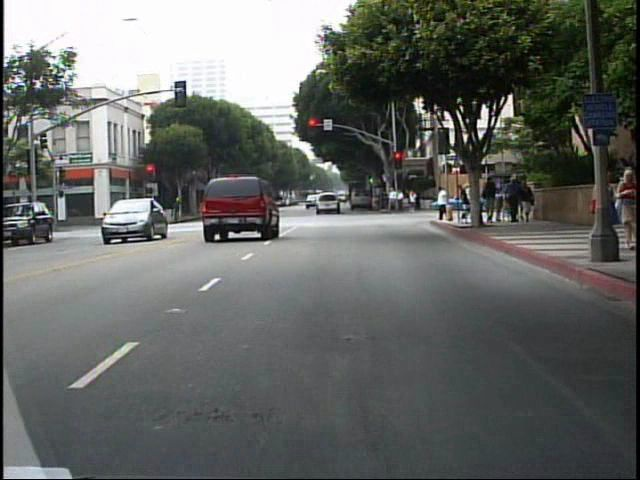person: (482, 175, 498, 225), (457, 178, 473, 222), (435, 184, 450, 224), (148, 197, 163, 227)
